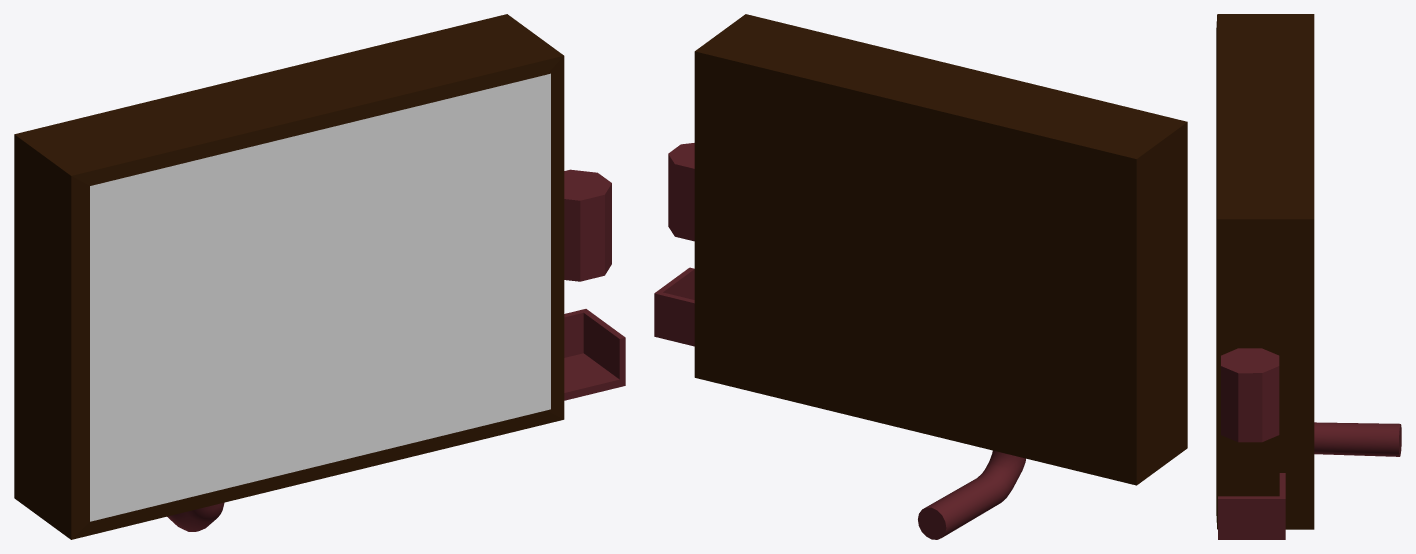
The model's file is Minigoco.fbx.
The picture shows the model from 3 angles, left to right: view 1: azimuth 30°, elevation 25°; view 2: azimuth 150°, elevation 25°; view 3: azimuth 270°, elevation 25°; orthographic projection. The views are drawn at different scales.
Visible parts, largest first — view 1: Vetro, Minigioco, Raccoglitore, PiattaformaPalla; view 2: Minigioco, PiattaformaPalla, Raccoglitore; view 3: Minigioco, Raccoglitore, PiattaformaPalla.
Part boxes in pixels (x1,y1,x2,y2): Vetro: [90, 73, 550, 521]; Minigioco: [14, 14, 564, 539]; Raccoglitore: [564, 169, 611, 281]; PiattaformaPalla: [564, 309, 625, 400]; Minigioco: [694, 14, 1187, 539]; PiattaformaPalla: [654, 267, 694, 346]; Raccoglitore: [668, 143, 694, 241]; Minigioco: [1216, 14, 1401, 529]; Raccoglitore: [1221, 348, 1279, 442]; PiattaformaPalla: [1218, 473, 1285, 539].
Bounding box in the file's own units: 234 × 173 × 79.33.
